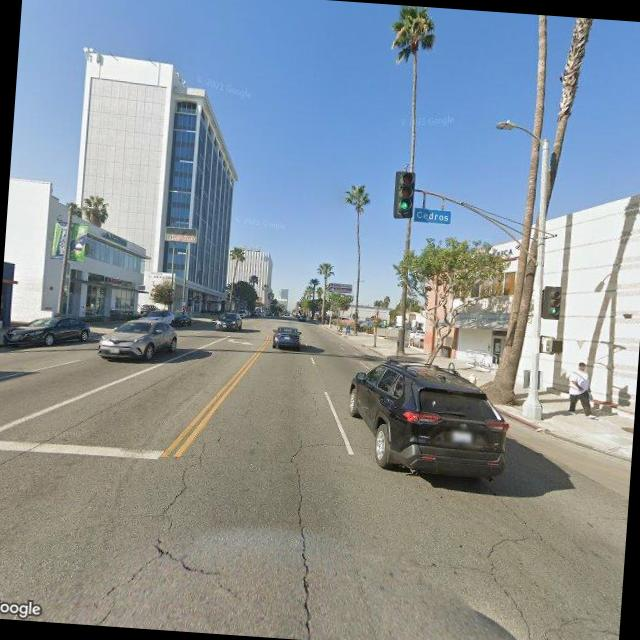crack: (82, 419, 236, 629), (454, 516, 561, 640), (271, 437, 333, 638), (286, 358, 324, 417)
